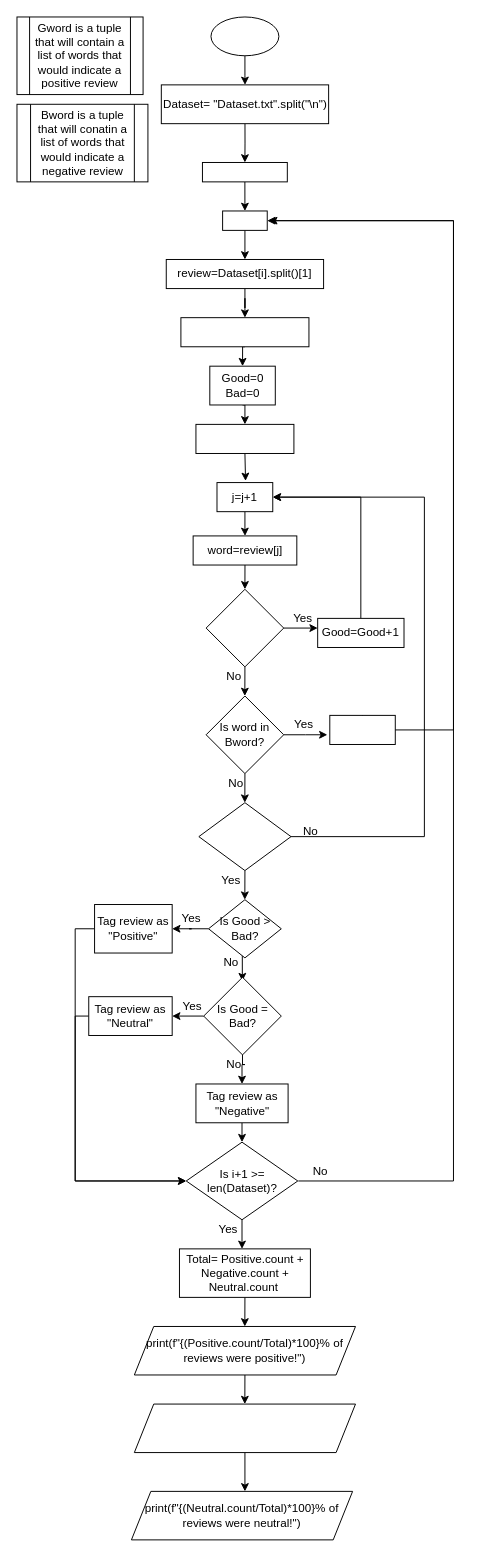
Image size: 478x1557. Some labels were removed from this diagram. Each missing label, with the box of its shape:
Bad=Bad+1: (329, 714, 395, 744)
i=-1: (201, 162, 287, 182)
i=i+1: (222, 210, 267, 230)
Is j+1 >= len(review)?: (198, 802, 291, 871)
Is word in Gword?: (205, 588, 284, 667)
j=-1: (195, 423, 294, 453)
print(f"{(Negative.count/Total)*100}% of reviews were negative!"): (133, 1403, 356, 1453)
review=review.split(" "): (180, 317, 309, 347)
Start: (210, 16, 279, 56)
